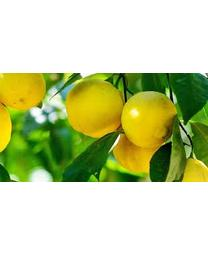lemon: (67, 78, 122, 137), (121, 92, 178, 147)
